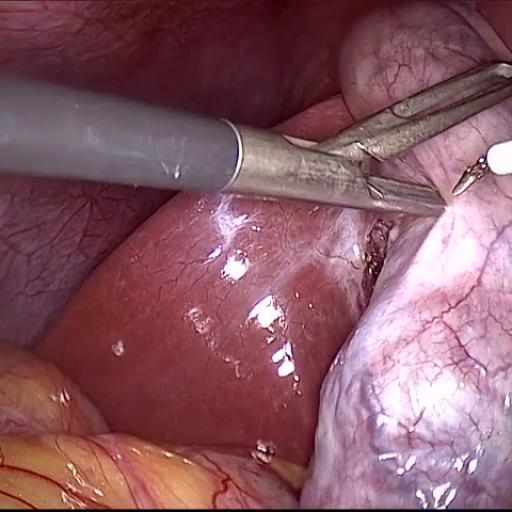Grasper: (195, 46, 512, 242)
Hook: (447, 128, 512, 216)
